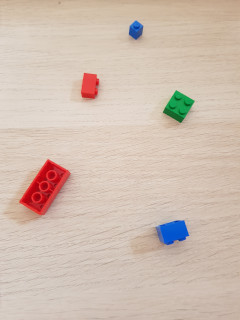1x1 blue: (127, 20, 146, 40)
1x2 red: (82, 72, 99, 101)
2x2 blue: (155, 219, 190, 244)
2x2 green: (162, 90, 196, 124)
2x4 red: (20, 158, 70, 216)
